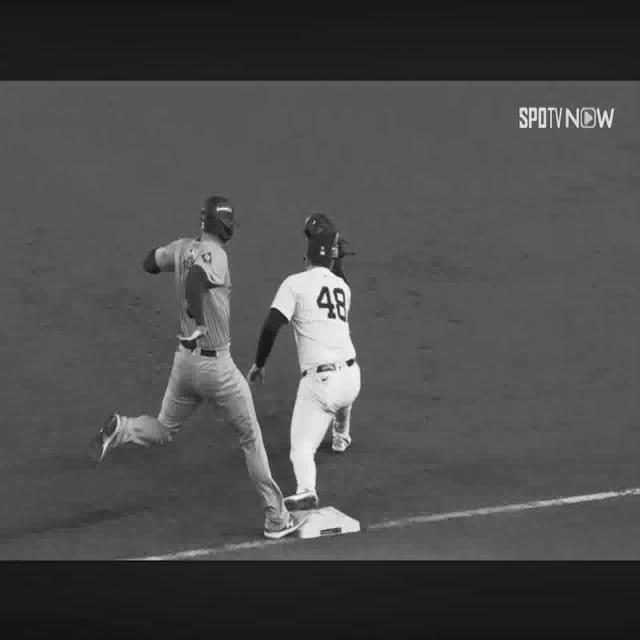base: (296, 507, 360, 538)
baseball_glove: (304, 213, 345, 257)
shoe: (90, 413, 120, 465), (264, 512, 305, 540), (284, 490, 319, 512), (333, 433, 353, 451)
